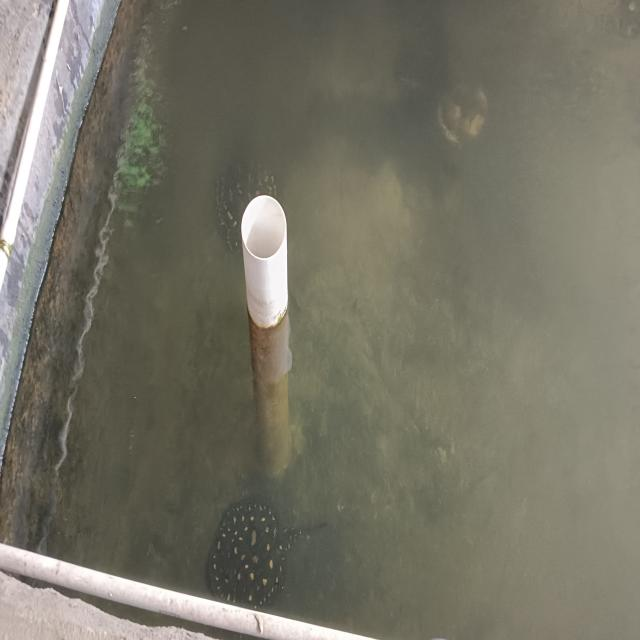black-diamond-sting-ray: (188, 457, 340, 618)
